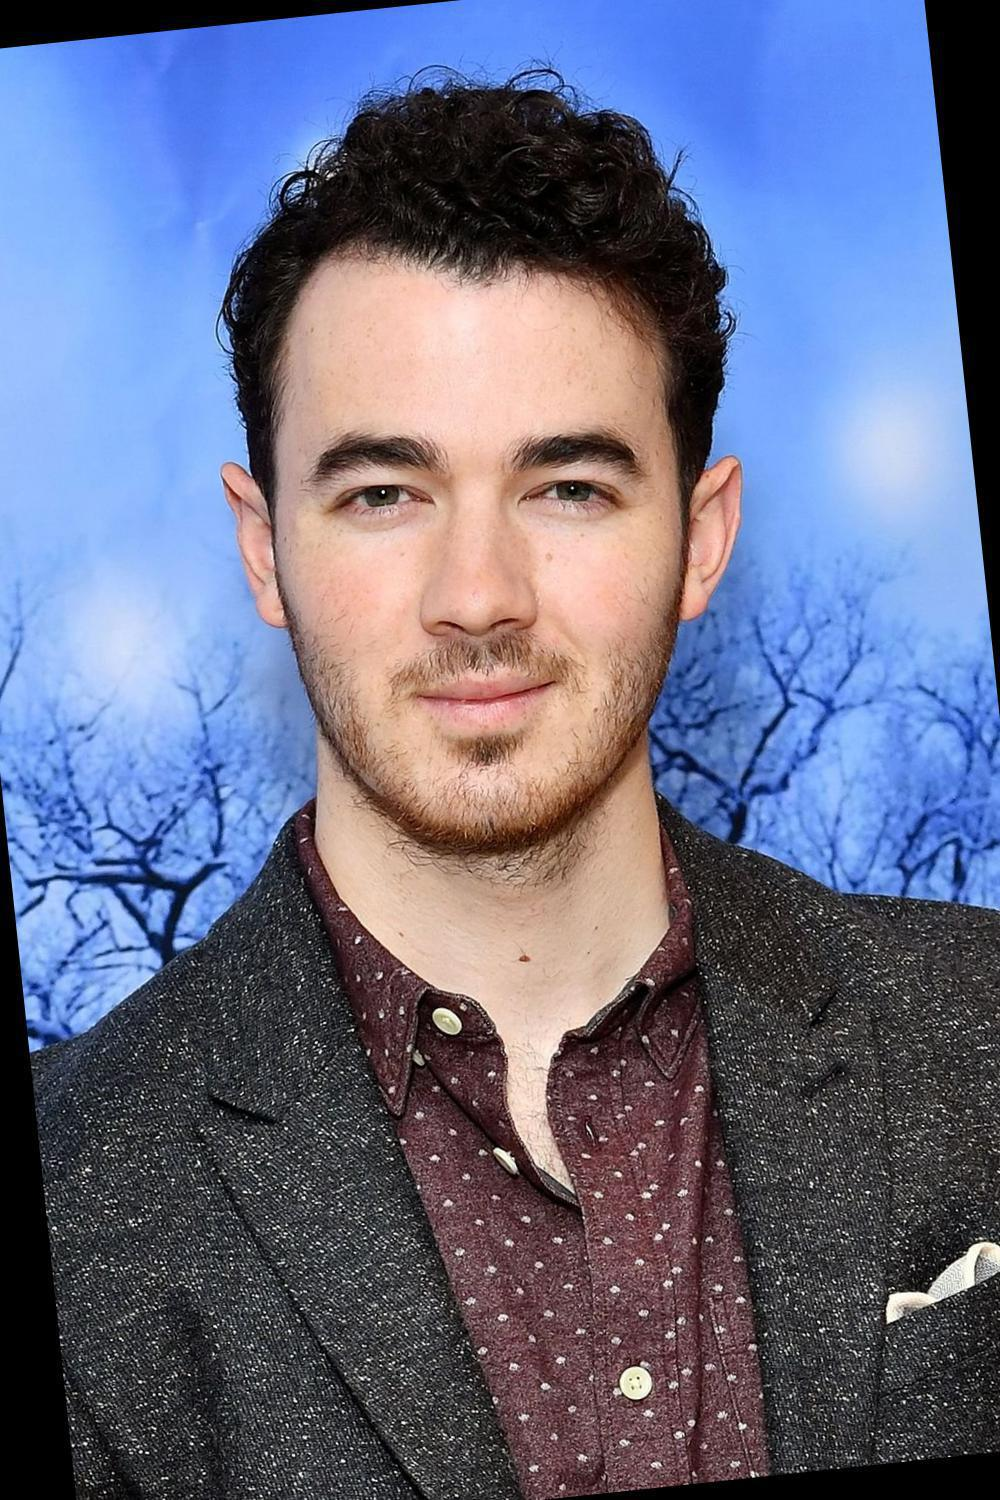Sober: (295, 267, 677, 798)
